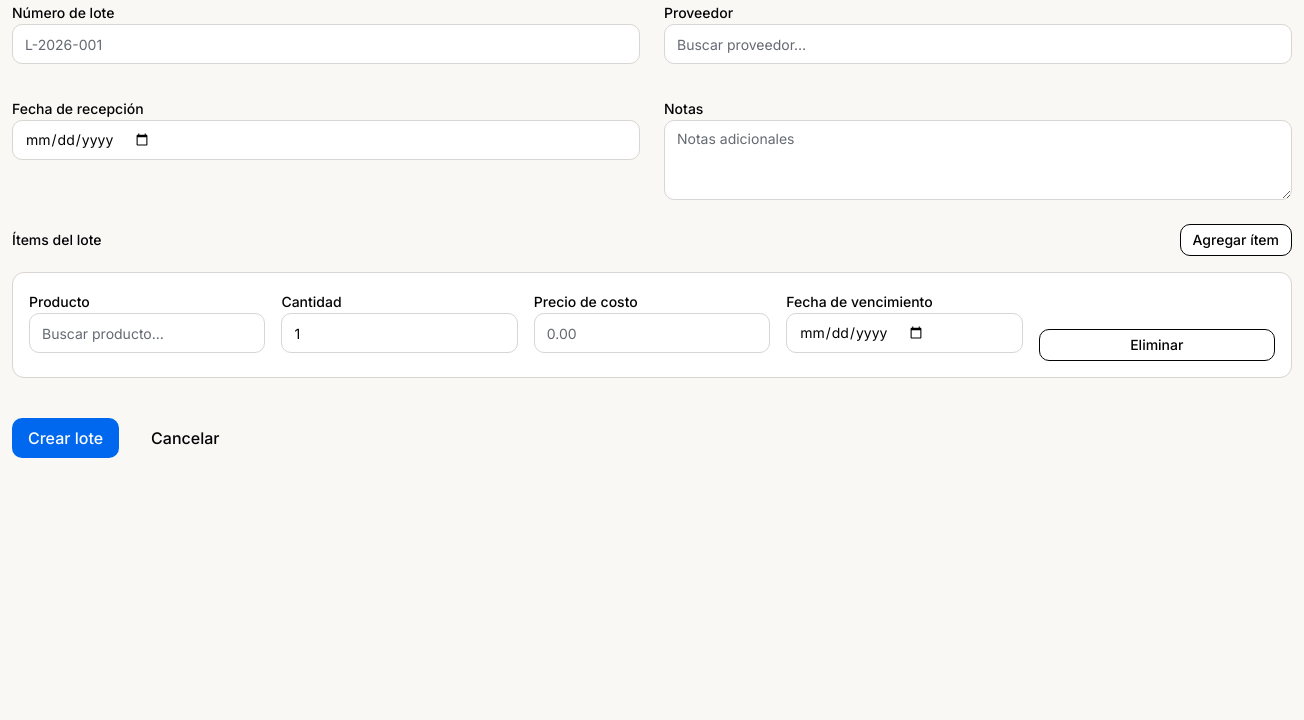
Test: LotForm › adds and removes line items
The width and height of the screenshot is (1304, 720).
Expected: the number of dropdowns labelled "Producto" is 1, [29,313,265,353]
Click the button "Agregar ítem" at [1236, 240], box [1180,224,1292,256]
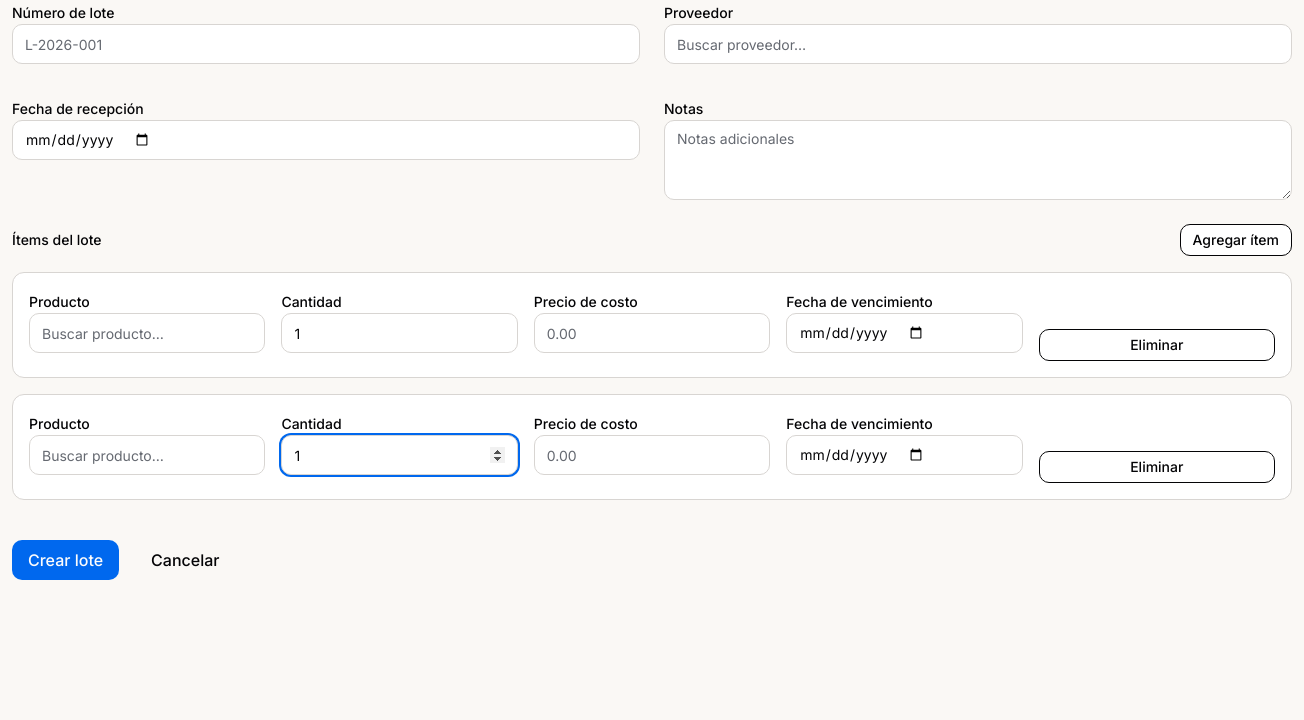
Expected: the number of dropdowns labelled "Producto" is 2, [29,313,265,353]; [29,435,265,475]
Click the 2nd button "Eliminar" at [1157, 467], box [1039,451,1275,483]
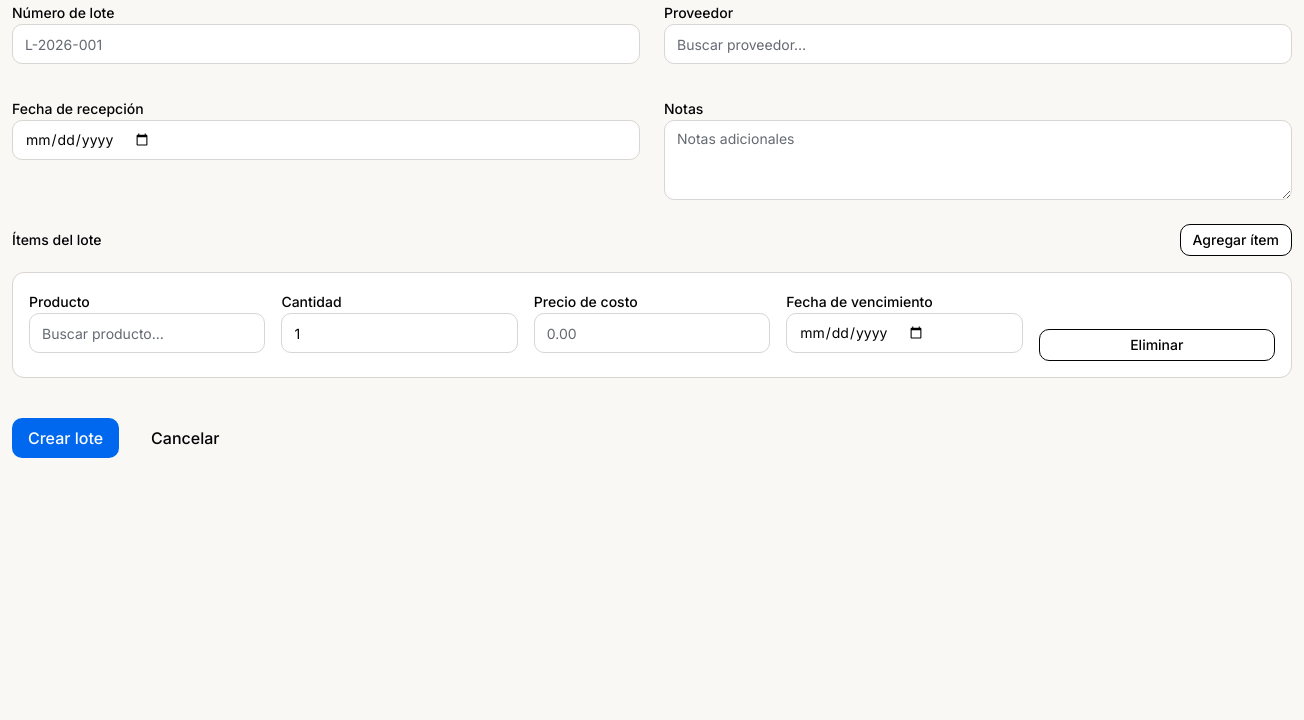
Expected: the number of dropdowns labelled "Producto" is 1, [29,313,265,353]
